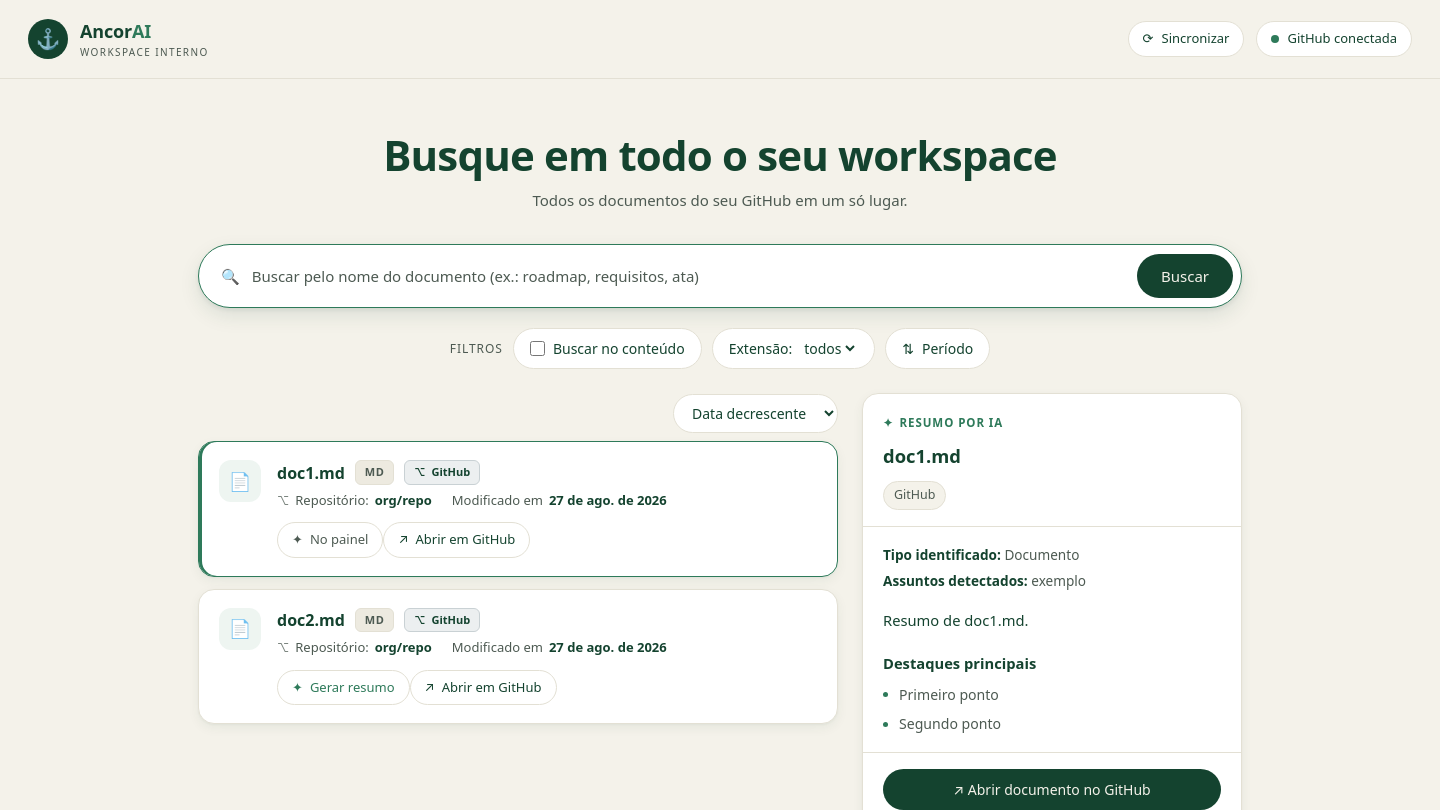
Test: foco do painel › troca para outro documento sem alterar a lista
Expected: the heading "doc1.md" is shown, [883,443,961,468]
Click the button "✦ Gerar resumo" at (343, 688), box [277,670,410,705]
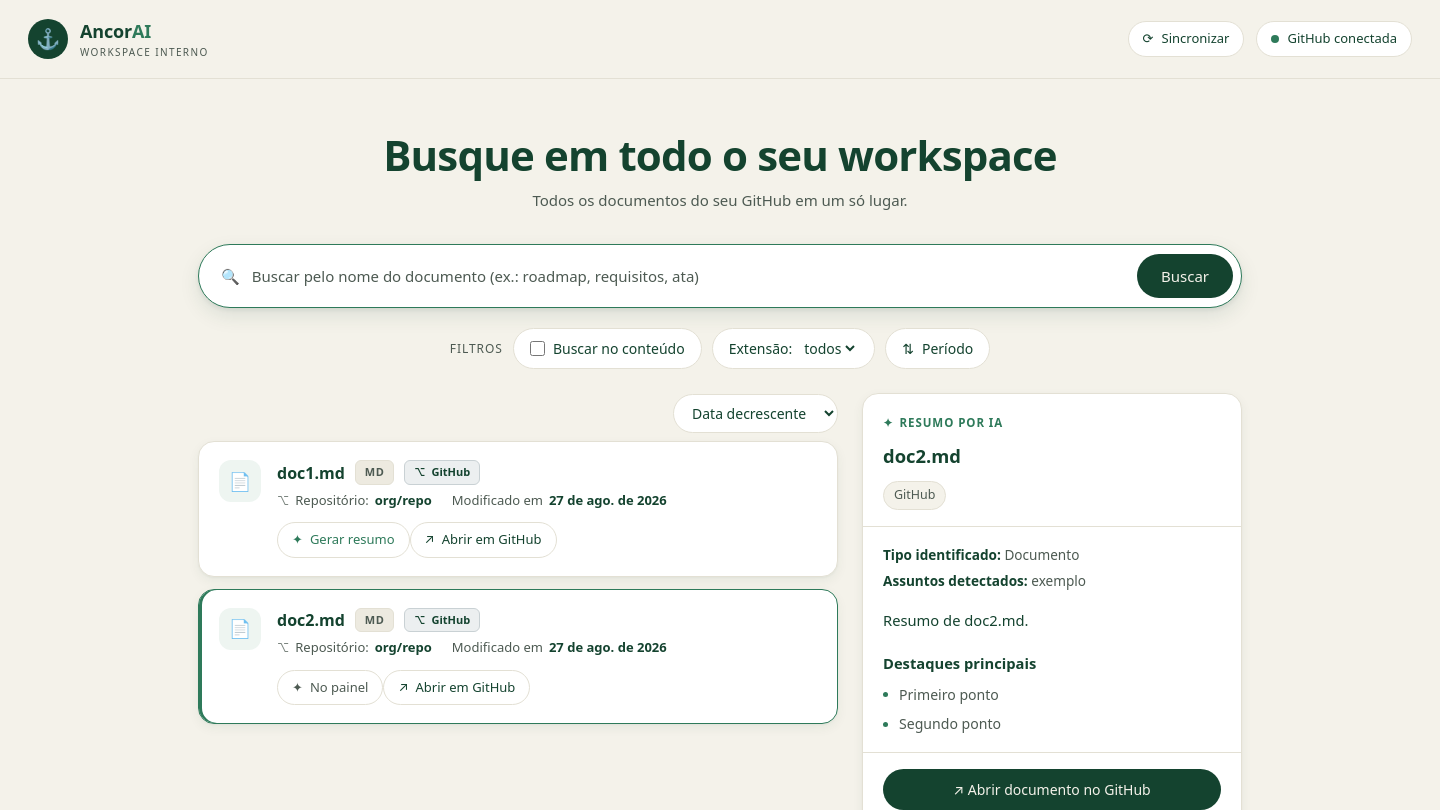
Now the heading "doc2.md" is shown, box [883,443,961,468]
